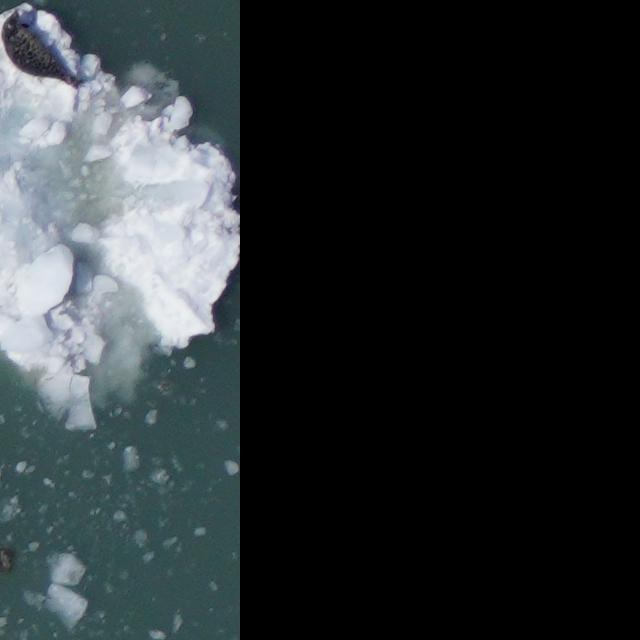seal: (0, 5, 90, 94)
